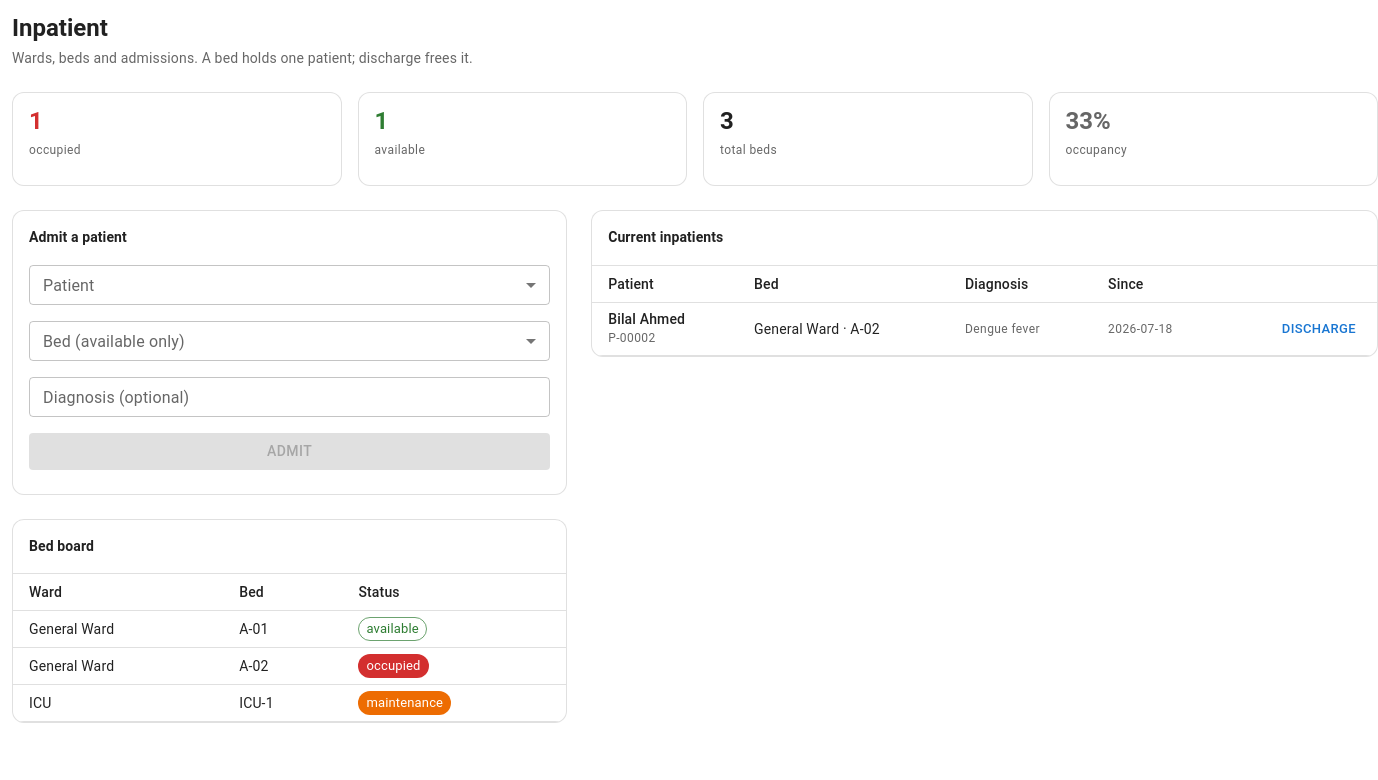
Scenario: only a bed that is actually free can be admitted into › reloads the board and clears the form once the admission is accepted
Expected: the text "A-01" is shown, [223,611,342,648]
Click the 1st dropdown named "Patient": (290,285) [29,265,550,305]
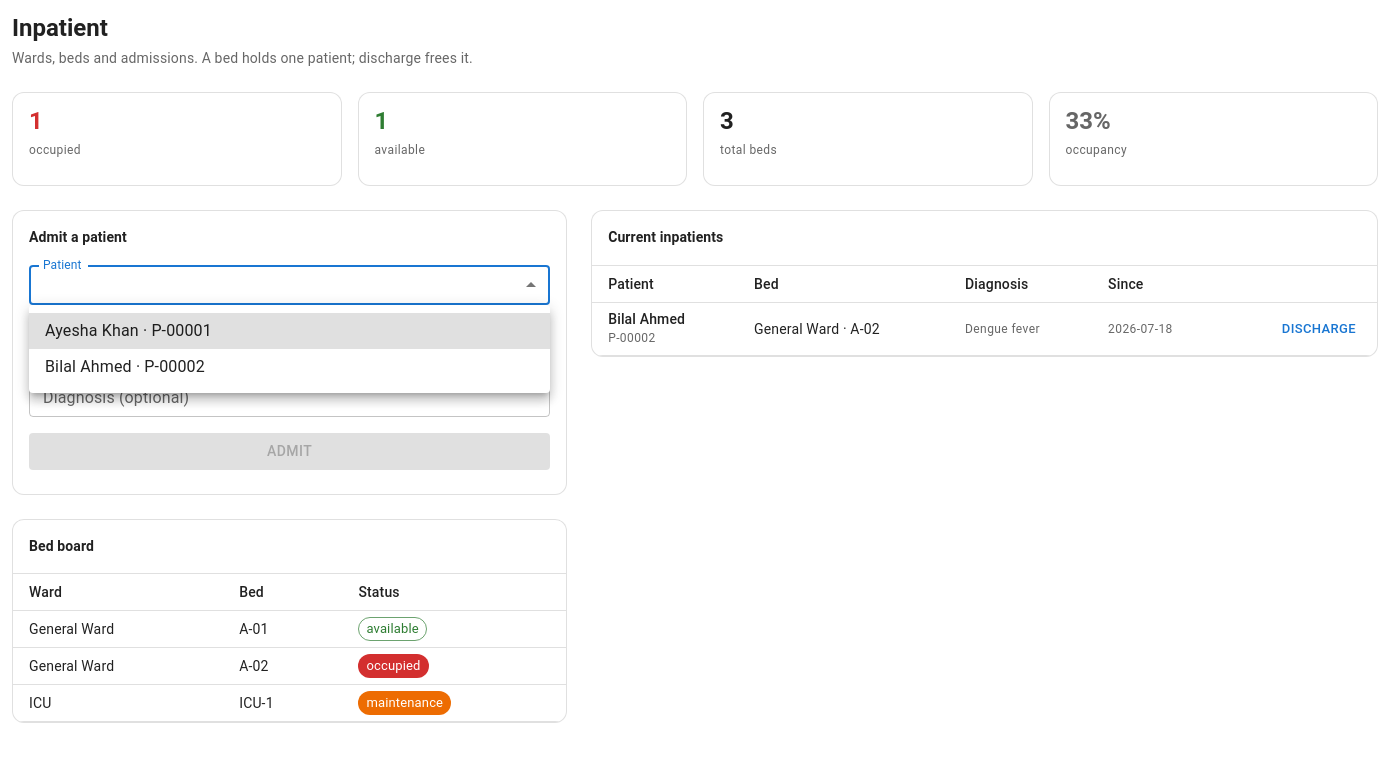
Click the option "Ayesha Khan · P-00001": (92,330) [29,313,550,349]
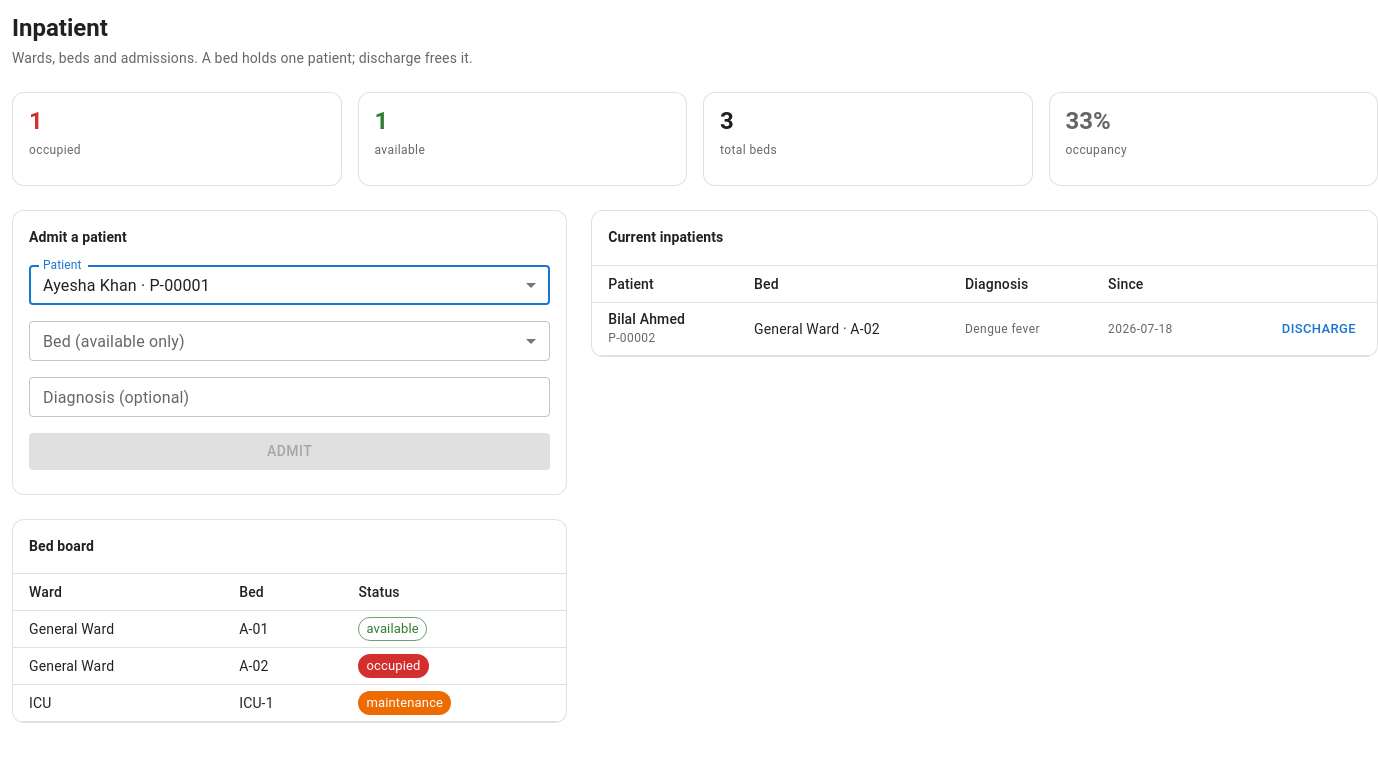
Result: the list is gone
Click the dropdown named "Bed (available only)": (290,341) [29,321,550,361]
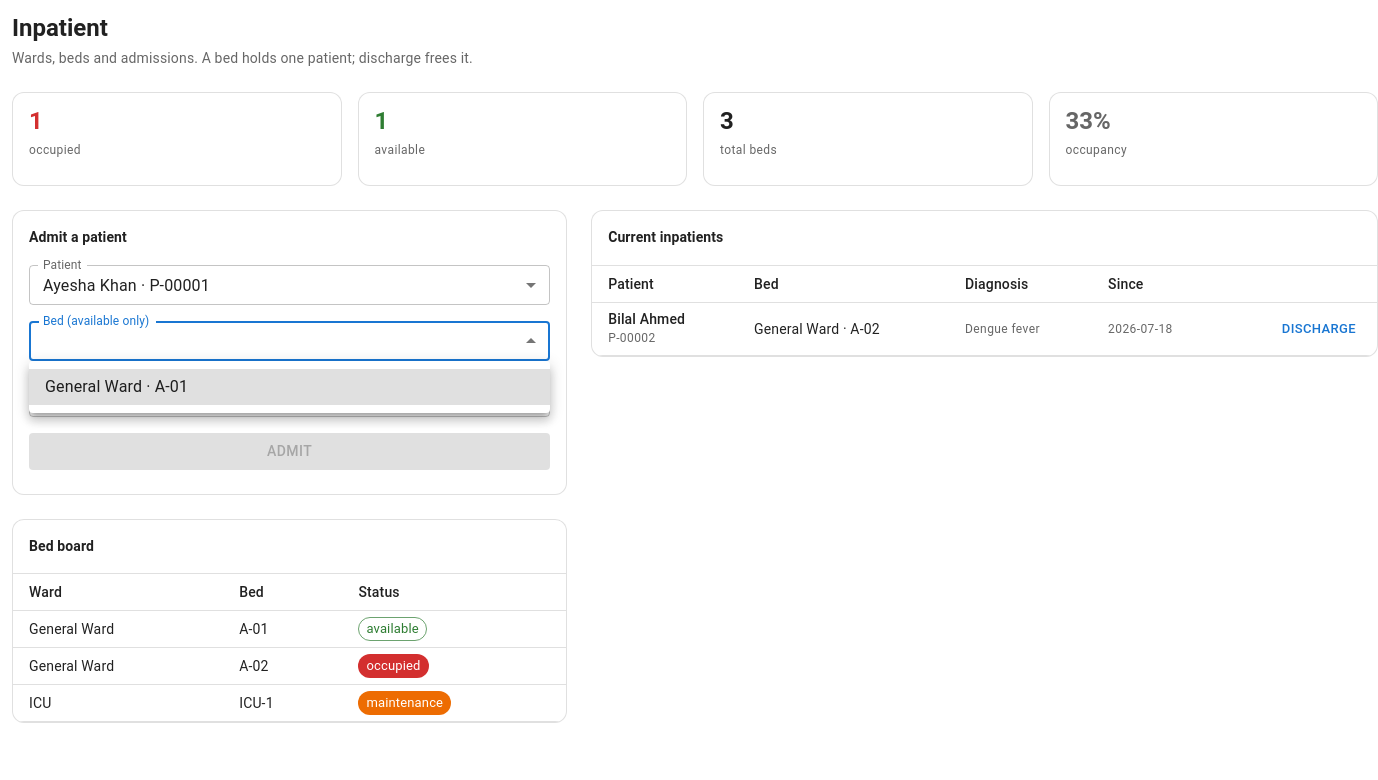
Click the option "General Ward · A-01": (94,386) [29,369,550,405]
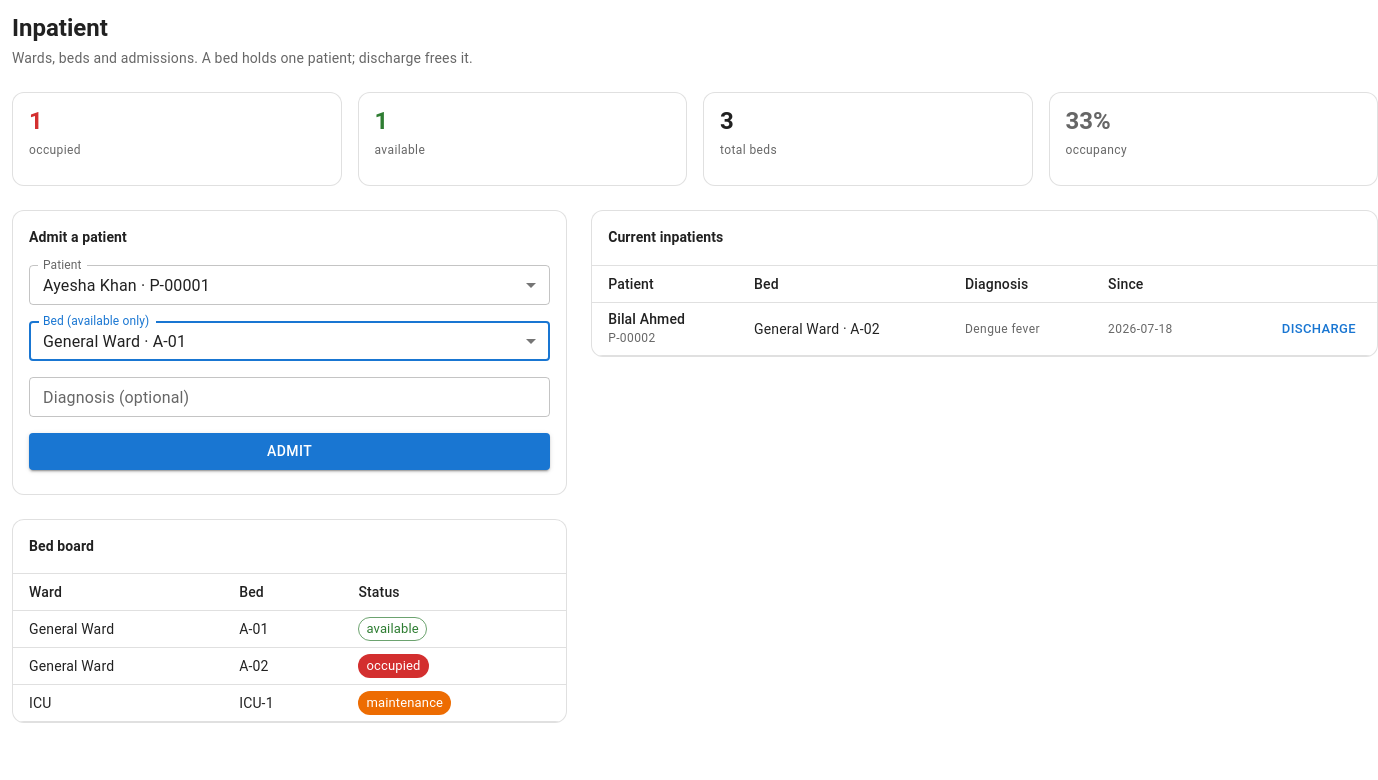
Result: the list is gone
In the field labelled "Diagnosis (optional)": (290,397) [29,377,550,417], type "Cellulitis right leg"
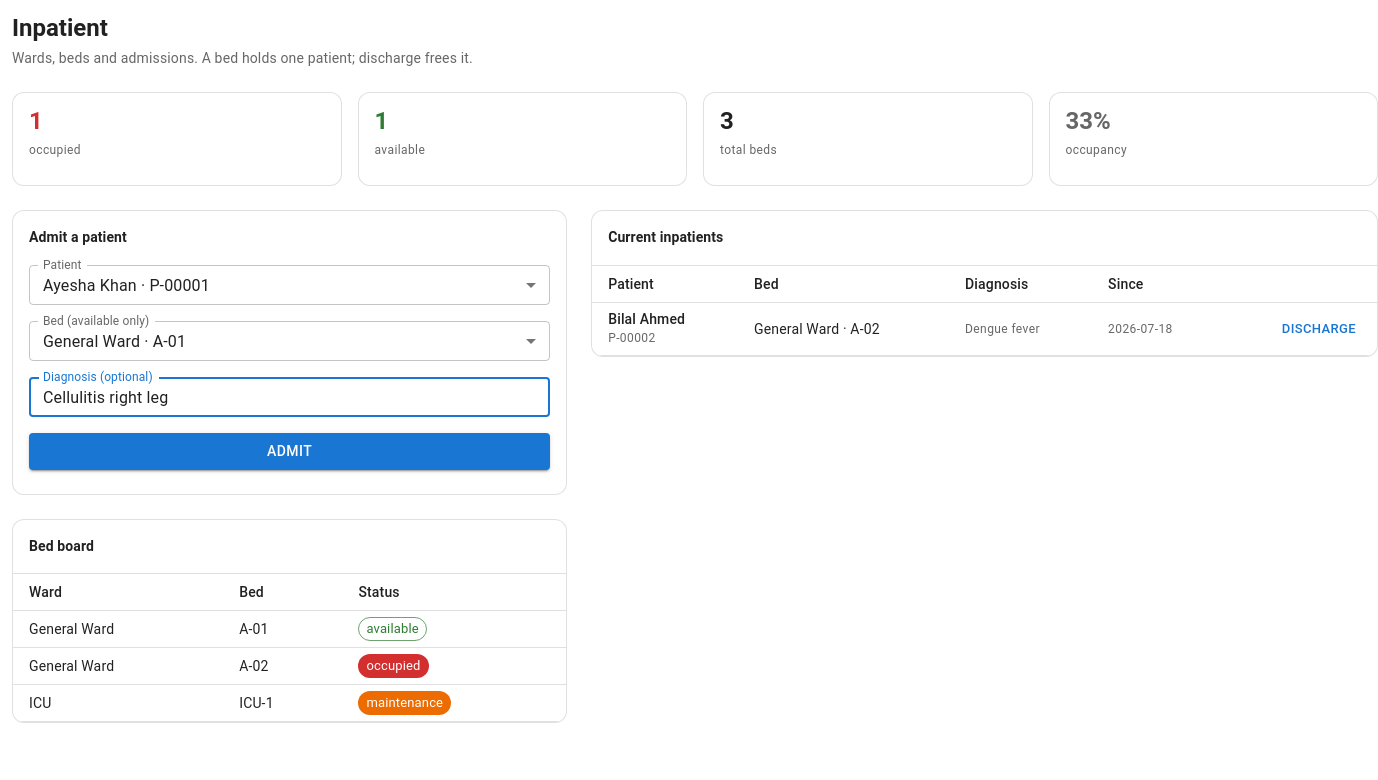
Click the button "Admit": (290,451) [29,433,550,470]
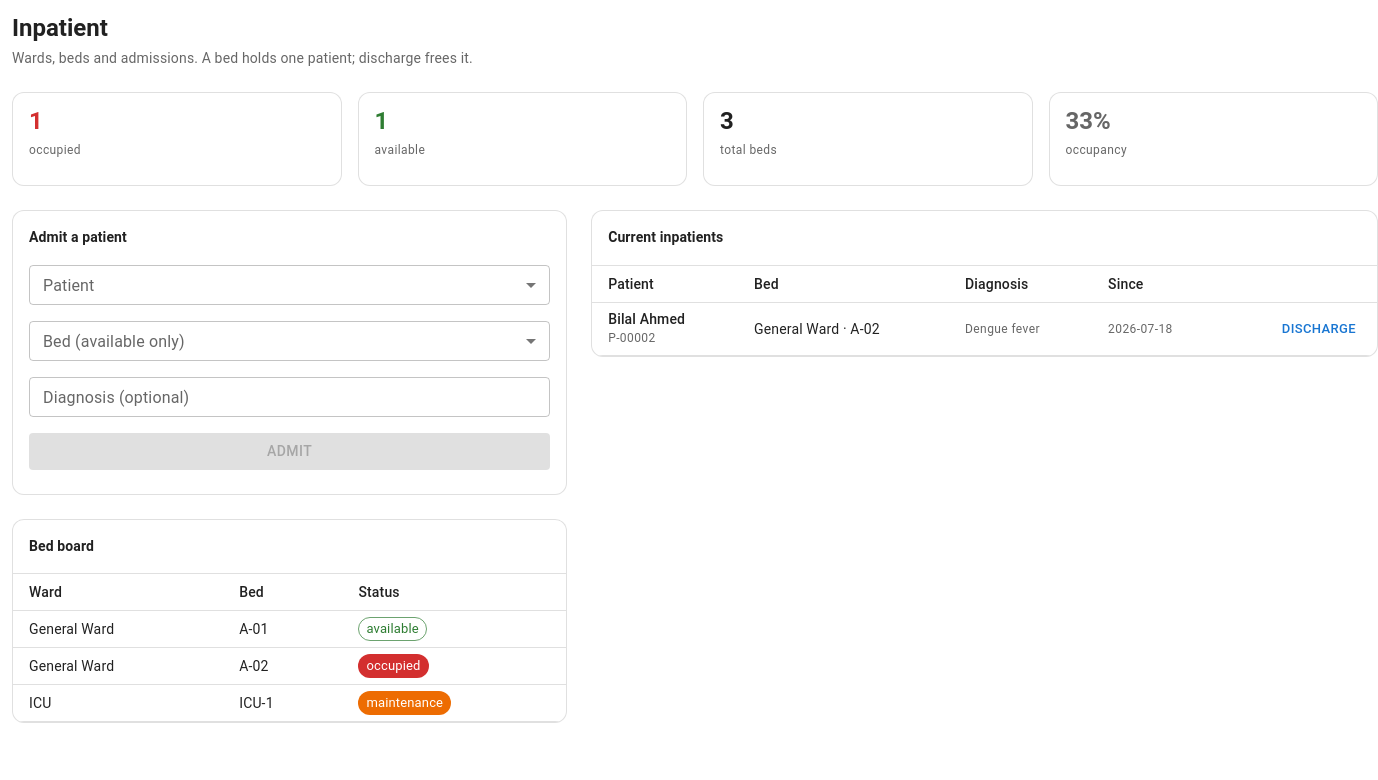
Expected: the dropdown named "Bed (available only)" next to "Bed (available only)" does not show "A-01", [29,321,550,361]
Result: the 1st dropdown named "Patient" no longer shows "Ayesha Khan" at [29,265,550,305]
Result: the field labelled "Diagnosis (optional)" is empty at [29,377,550,417]
